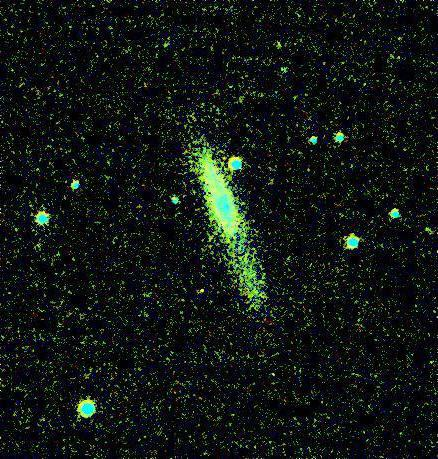star: (153, 28, 183, 58)
